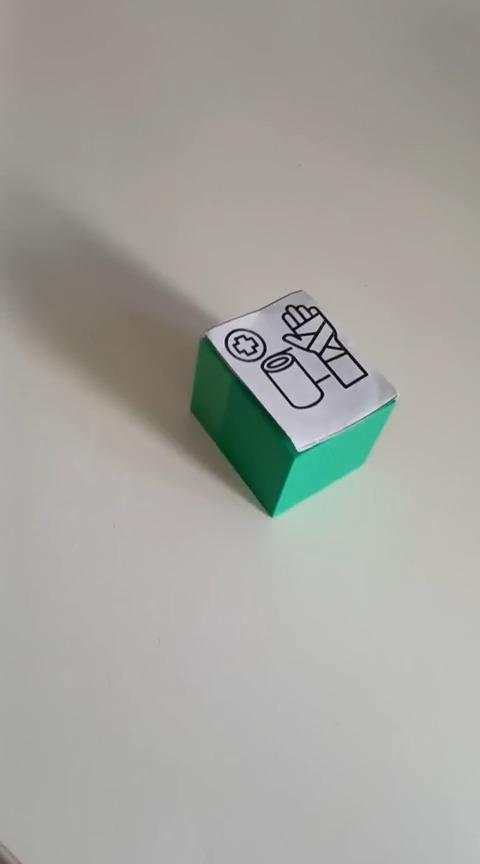Bandages: (189, 287, 397, 518)
